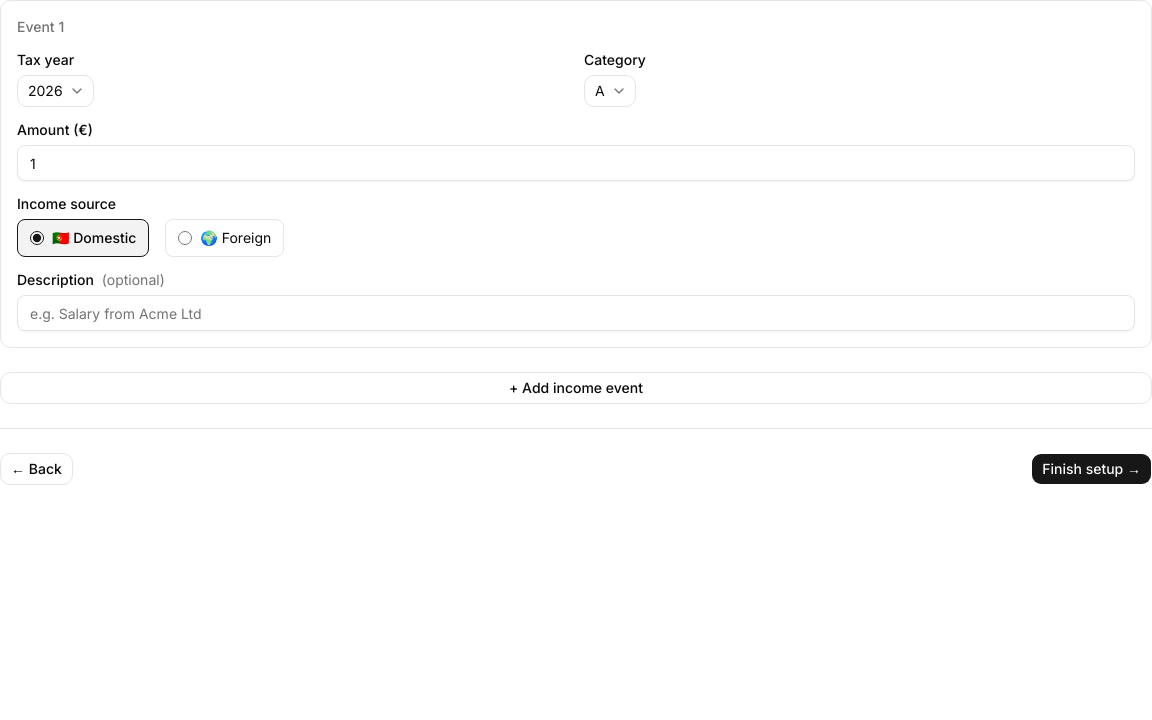
Test: Step3Income › appends a second row when '+ Add income event' is clicked
Click the button "+ Add income event": (576, 388) [0,372,1151,404]
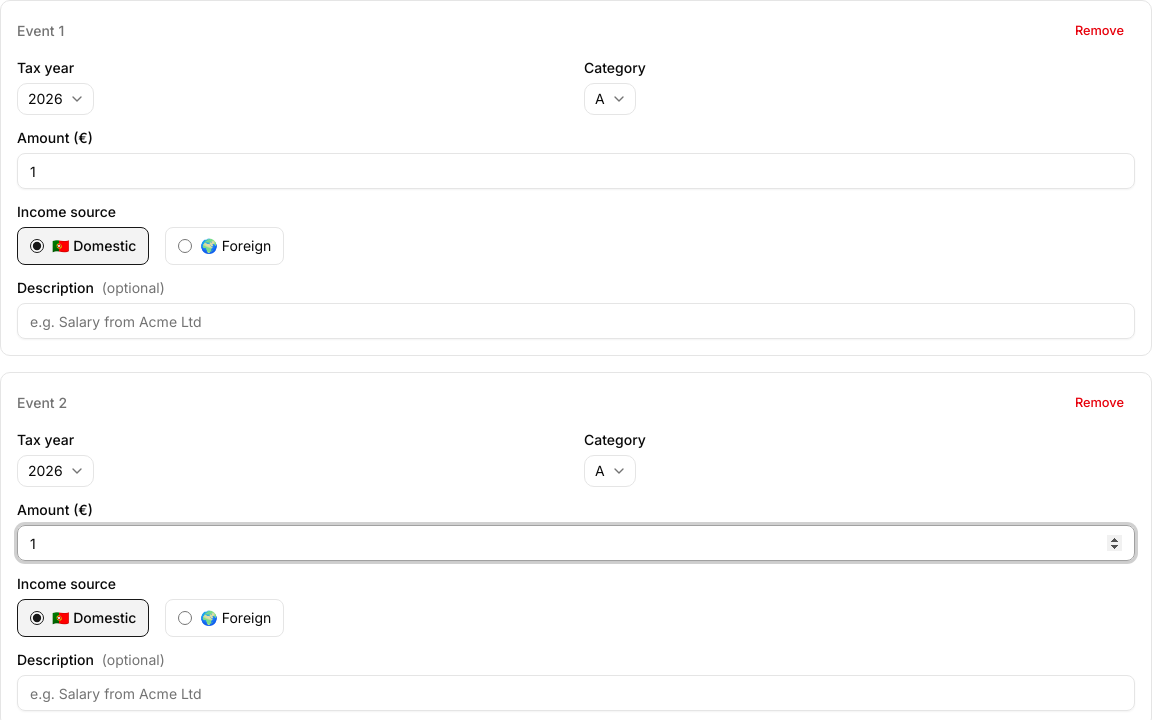
Check: the text "Event 1" is shown, box [17,21,64,41]
Check: the text "Event 2" is shown, box [17,393,67,413]
